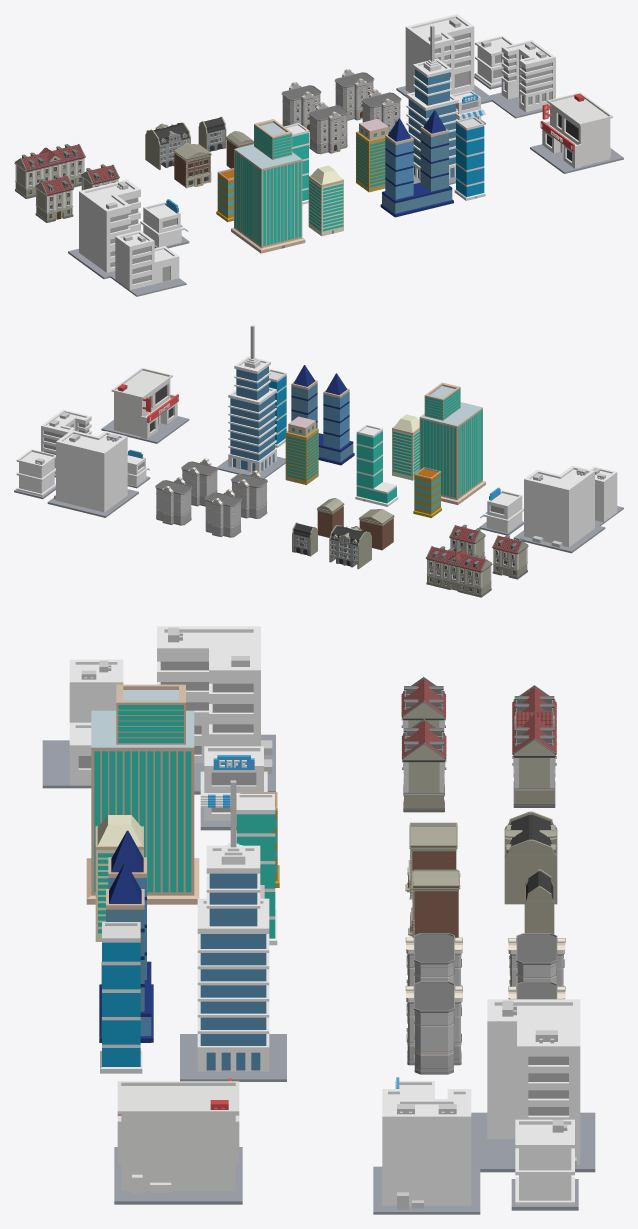
File: now_upper_half_v1.fbx
The picture shows the model from 3 angles, top to bottom: view 1: azimuth 30°, elevation 25°; view 2: azimuth 150°, elevation 25°; view 3: azimuth 270°, elevation 25°; orthographic projection. The views are drawn at different scales.
Visible parts, largest first — view 1: store; view 2: store; view 3: store.
Part boxes in pixels (bbox=[...]): store: bbox=[14, 14, 623, 296]; store: bbox=[14, 325, 623, 597]; store: bbox=[42, 626, 595, 1214].
Bounding box in the file's own units: 75805 × 20860 × 37120.
